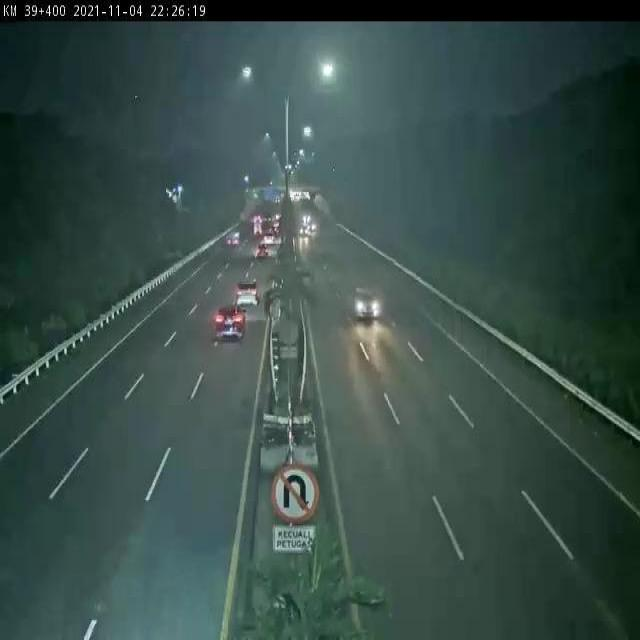car: (220, 265, 277, 315), (206, 300, 257, 351), (348, 275, 392, 329), (222, 216, 249, 256), (252, 236, 275, 271)
